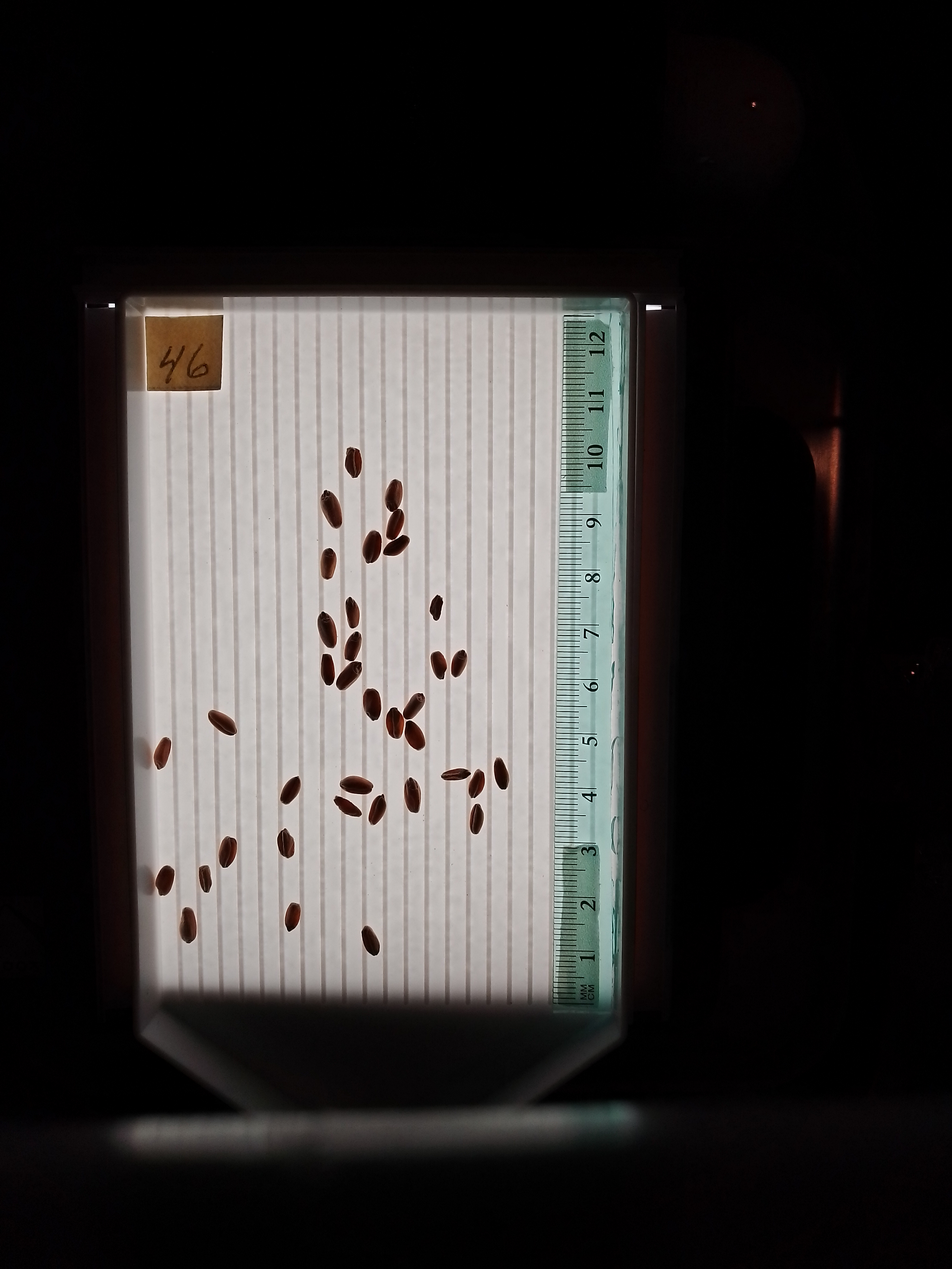seed mask: (321, 490, 342, 528), (208, 710, 237, 736), (318, 613, 337, 648), (362, 531, 382, 564), (340, 775, 372, 795), (179, 908, 197, 943), (337, 664, 361, 690), (405, 722, 425, 751), (404, 779, 421, 813), (363, 688, 381, 720), (361, 926, 380, 956), (280, 777, 301, 804), (219, 837, 237, 868), (156, 866, 175, 895), (404, 693, 425, 719), (386, 709, 404, 739), (154, 738, 171, 769), (335, 796, 360, 817), (386, 479, 402, 511), (345, 447, 362, 477), (387, 510, 404, 540), (369, 795, 386, 825), (277, 830, 295, 858), (385, 536, 409, 556), (321, 549, 337, 579), (468, 770, 485, 798), (494, 759, 509, 790), (345, 598, 360, 628), (431, 652, 447, 679), (285, 904, 301, 931), (344, 634, 361, 659), (321, 655, 335, 684), (470, 805, 484, 834), (451, 651, 467, 676), (443, 767, 468, 781), (430, 596, 444, 620), (199, 866, 211, 892)
